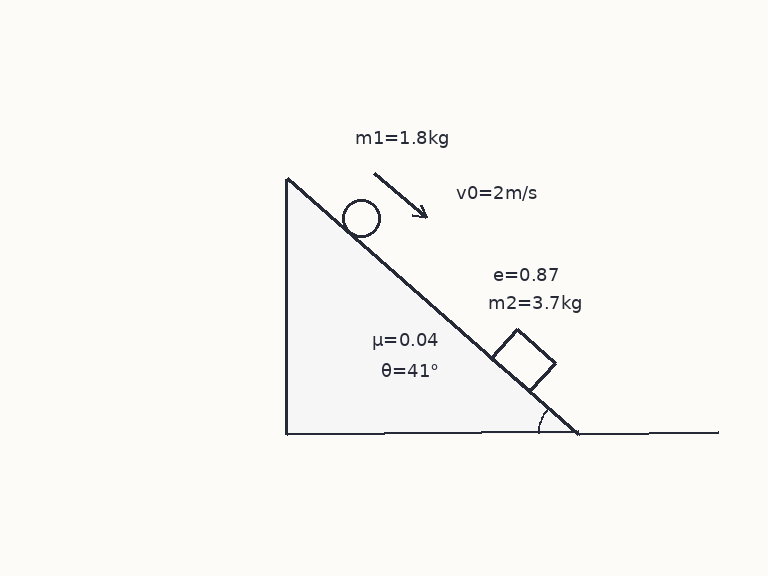ball: (340, 197, 382, 239)
block: (490, 327, 557, 393)
ramp: (284, 176, 581, 435)
